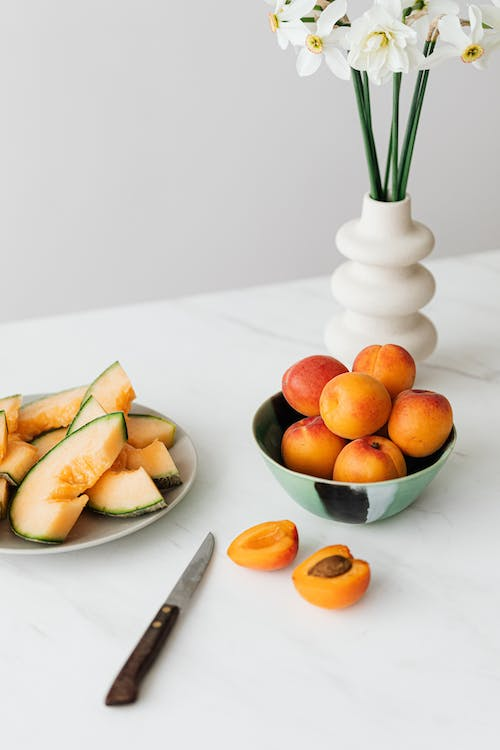knife: (104, 526, 218, 708)
